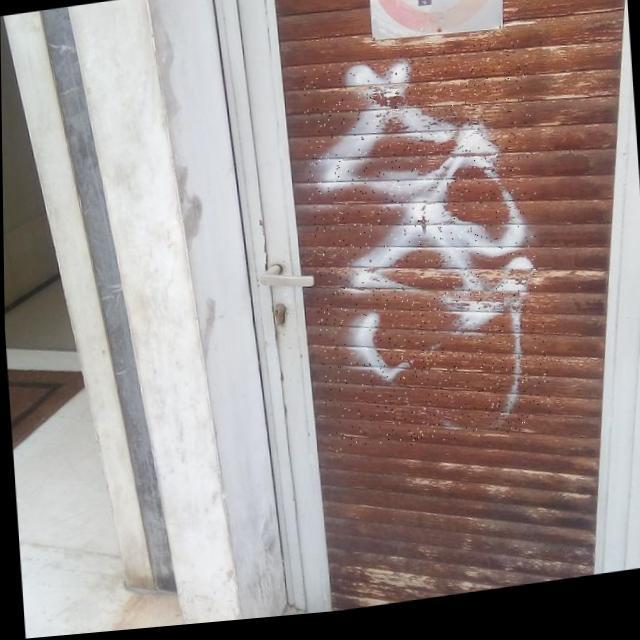-: (300, 46, 550, 465)
